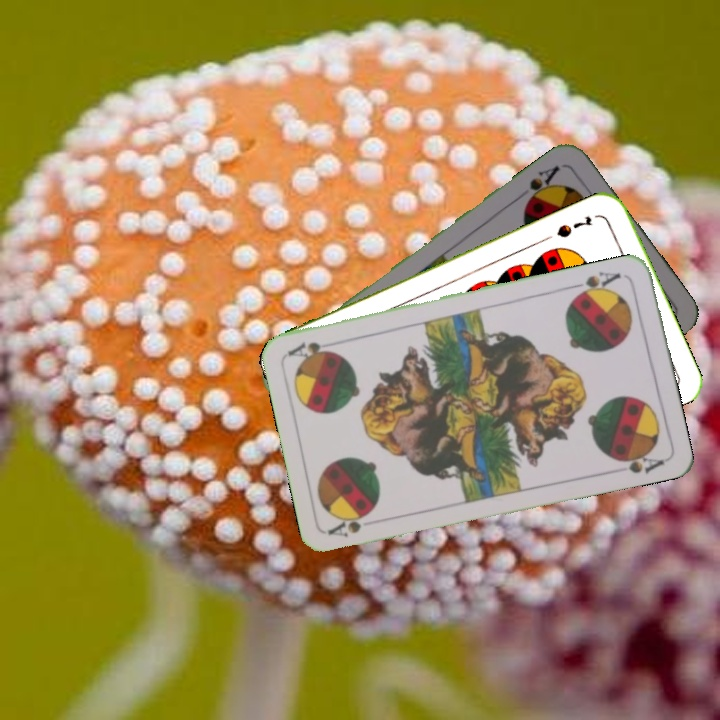S7: (553, 212, 595, 241)
SA: (521, 161, 563, 208), (568, 267, 623, 301), (325, 508, 376, 540)
